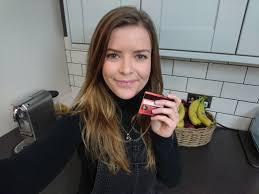face: (103, 25, 150, 100)
